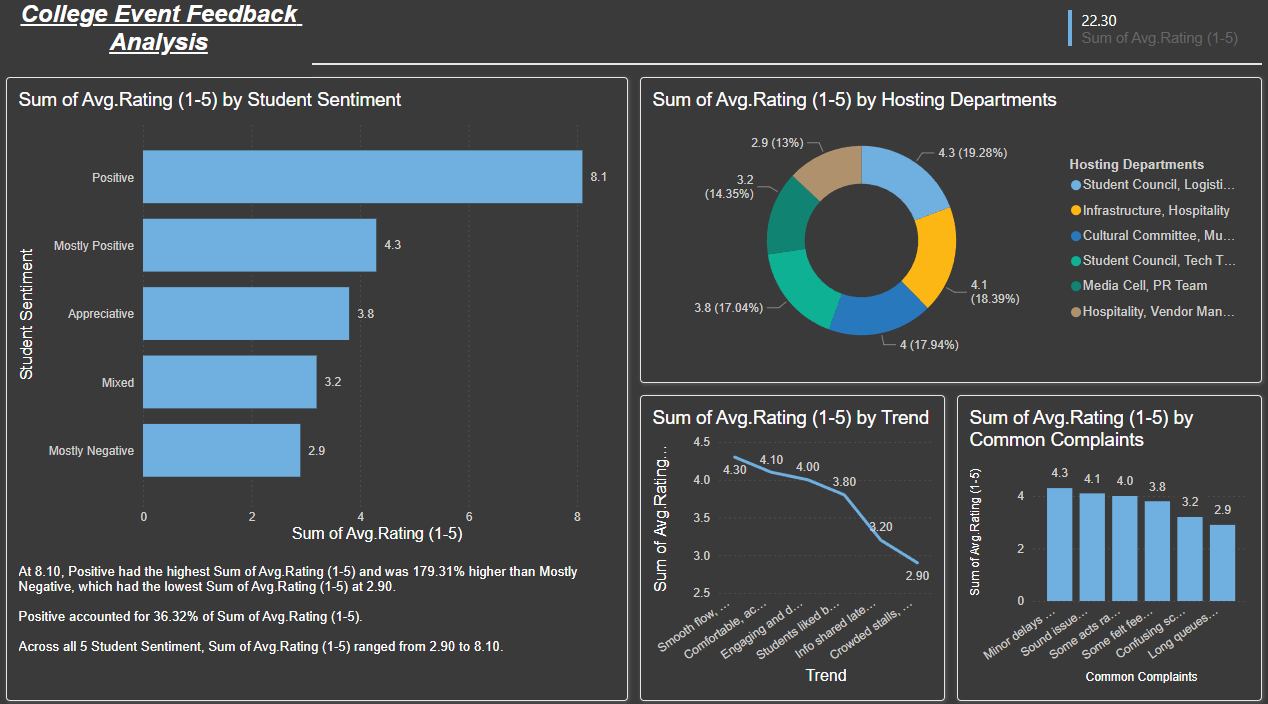

This screenshot's page, from the dashboard's own definition file:
{"tool":"powerbi","page":{"name":"Page 1","canvas":[1280,720],"ordinal":0},"visuals":[{"type":"shape","box":[12,58,1256,26],"z":0},{"type":"shape","box":[12,84,622,624],"z":1000},{"type":"shape","box":[646,84,622,306],"z":2000},{"type":"shape","box":[646,402,305,306],"z":3000},{"type":"shape","box":[963,402,305,306],"z":4000},{"type":"lineStackedColumnComboChart","fields":{"Category":["Table.Common Complaints"],"Y":["Sum(Table.Avg.Rating (1-5))"]},"box":[971,414,289,282],"z":5000},{"type":"lineChart","fields":{"Category":["Table.Trend"],"Y":["Sum(Table.Avg.Rating (1-5))"]},"box":[654,414,289,282],"z":6000},{"type":"donutChart","fields":{"Category":["Table.Hosting Departments","Table.Category"],"Y":["Sum(Table.Avg.Rating (1-5))"]},"box":[654,96,606,282],"z":7000},{"type":"textbox","box":[20,566,606,129],"z":8000},{"type":"clusteredBarChart","fields":{"Category":["Table.Student Sentiment"],"Y":["Sum(Table.Avg.Rating (1-5))"]},"box":[20,96,606,458],"z":9000},{"type":"multiRowCard","fields":{"Values":["Sum(Table.Avg.Rating (1-5))"]},"box":[1069,12,199,50],"z":10000},{"type":"textbox","box":[12,33,306,32],"z":11000},{"type":"textbox","box":[12,2,306,82],"z":12000}]}

Visuals, with their boxes in screenshot pixels (x1, y1, x2, y2), scaled from the page's 1280x720 canvas onto the 1268x704 screenshot:
shape: (12,57,1256,82)
shape: (12,82,628,692)
shape: (640,82,1256,381)
shape: (640,393,942,692)
shape: (954,393,1256,692)
lineStackedColumnComboChart - Table.Common Complaints x Sum(Table.Avg.Rating (1-5)): (962,405,1248,681)
lineChart - Table.Trend x Sum(Table.Avg.Rating (1-5)): (648,405,934,681)
donutChart - Table.Hosting Departments x Table.Category: (648,94,1248,370)
textbox: (20,553,620,680)
clusteredBarChart - Table.Student Sentiment x Sum(Table.Avg.Rating (1-5)): (20,94,620,542)
multiRowCard - Sum(Table.Avg.Rating (1-5)): (1059,12,1256,61)
textbox: (12,32,315,64)
textbox: (12,2,315,82)
